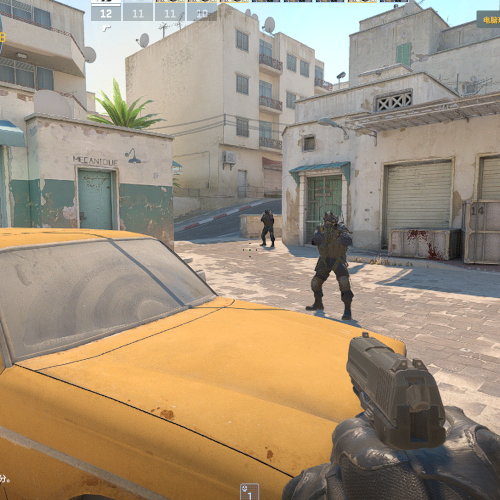ct_body: (311, 211, 353, 320), (261, 209, 275, 248)
ct_head: (323, 211, 338, 231), (264, 208, 270, 215)
